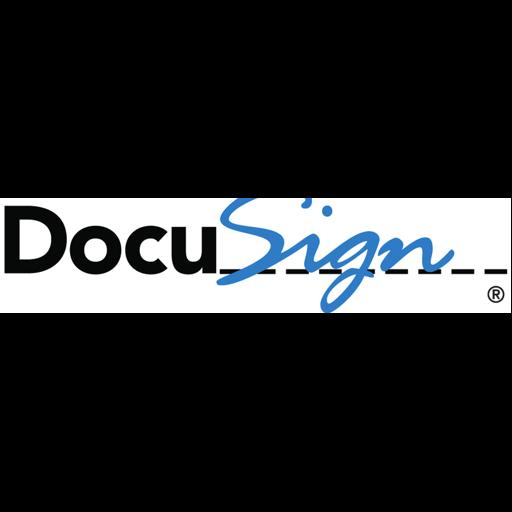DocuSign: (0, 198, 511, 313)
